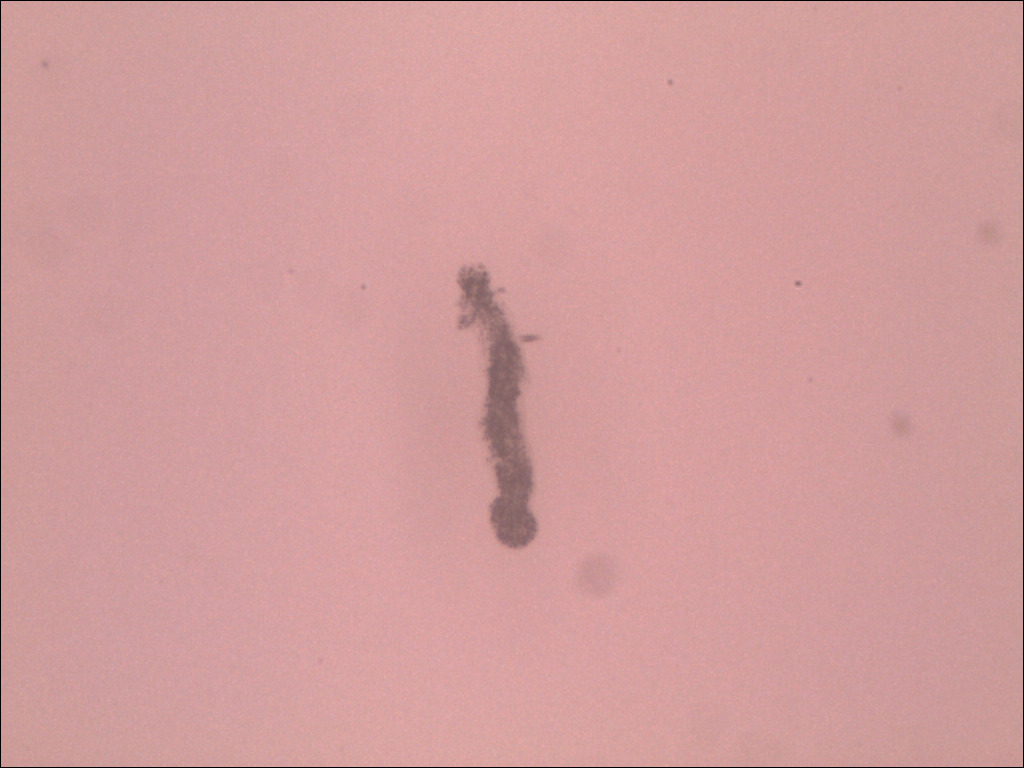amoeba: (436, 256, 562, 560)
